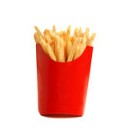frenchfries: (34, 25, 97, 59)
